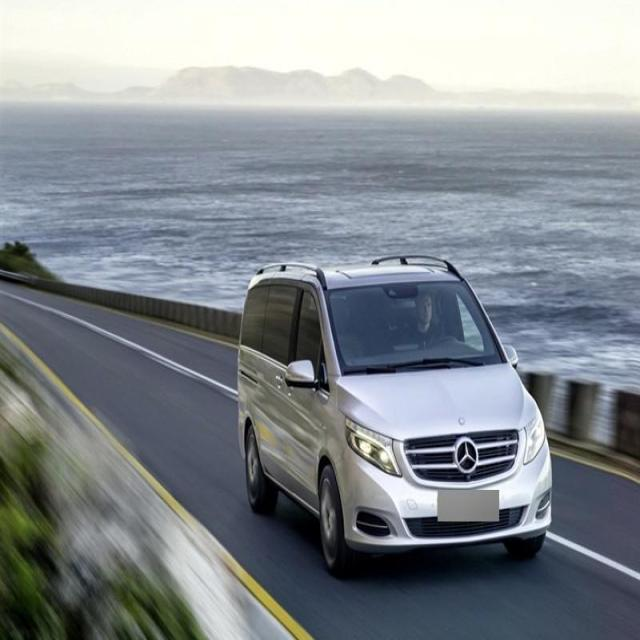front_glass: (324, 283, 507, 369)
front_left_side_light: (521, 408, 548, 468)
front_left_side_mirror: (501, 341, 521, 371)
front_right_side_door: (278, 277, 330, 518)
front_right_side_light: (342, 411, 404, 481)
front_right_side_mirror: (284, 359, 320, 392)
wheel: (318, 467, 354, 578), (244, 421, 278, 518)
